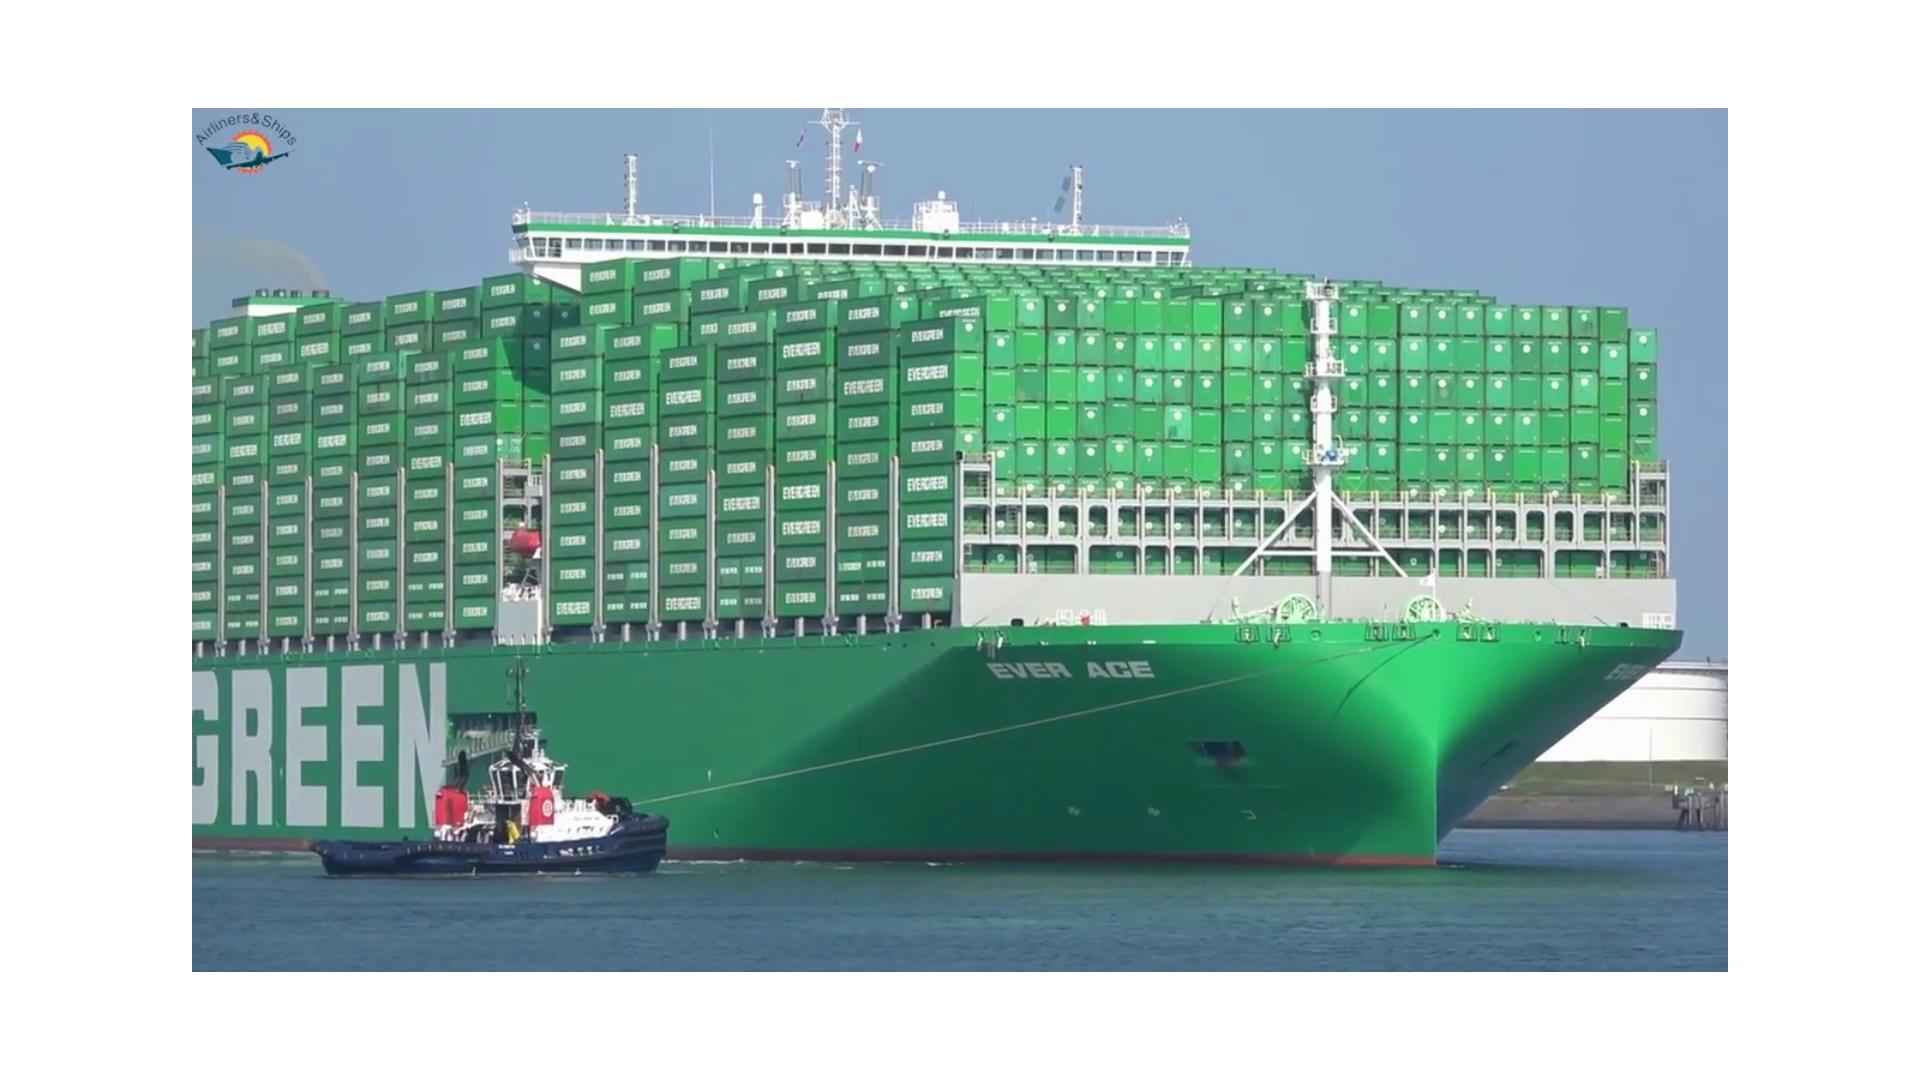OCR: (194, 658, 472, 861), (972, 637, 1184, 698)
